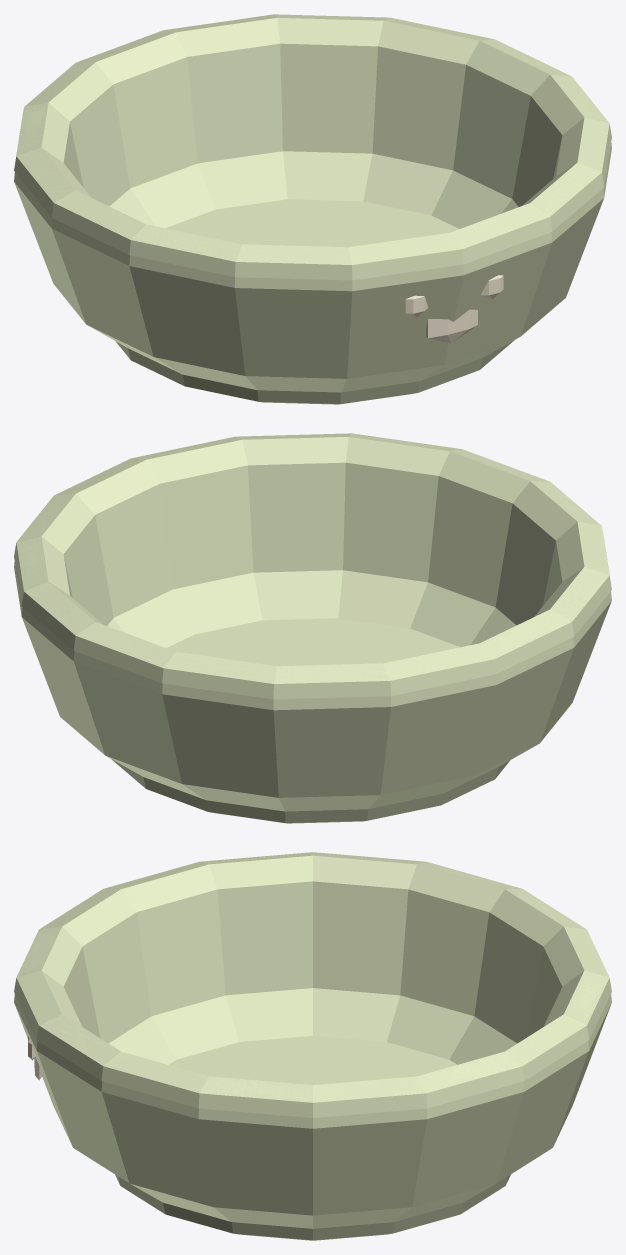
The model's file is crafted-cat-water-4-0.glb.
The picture shows the model from 3 angles, top to bottom: view 1: azimuth 30°, elevation 25°; view 2: azimuth 150°, elevation 25°; view 3: azimuth 270°, elevation 25°; orthographic projection.
Visible parts, largest first — view 1: ceramic-bowl, glazed-rim, foot-ring, paw-pad; view 2: ceramic-bowl, glazed-rim, foot-ring; view 3: ceramic-bowl, glazed-rim, foot-ring.
Part boxes in pixels (<box>): ceramic-bowl: <box>14,14,611,392</box>; glazed-rim: <box>14,14,611,280</box>; foot-ring: <box>116,340,514,404</box>; paw-pad: <box>426,309,477,343</box>; ceramic-bowl: <box>14,433,611,811</box>; glazed-rim: <box>14,433,611,699</box>; foot-ring: <box>111,759,509,823</box>; ceramic-bowl: <box>14,852,611,1228</box>; glazed-rim: <box>14,852,611,1117</box>; foot-ring: <box>115,1174,510,1240</box>.
Bounding box in the file's own units: 0.76 × 0.265 × 0.76.
